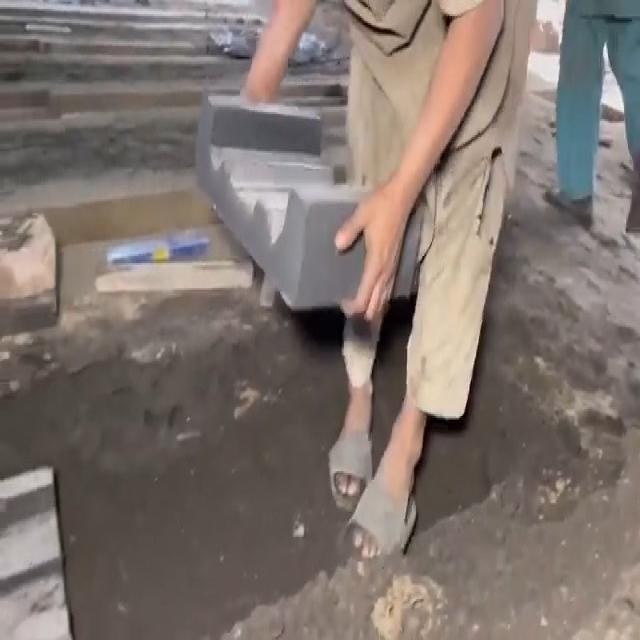dress: (348, 0, 536, 424)
